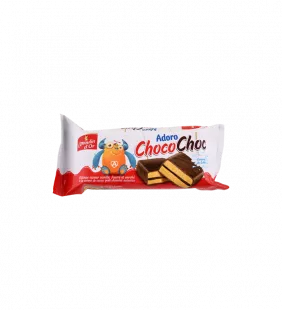ADORO MOULIN D'OR: (45, 107, 236, 204)
